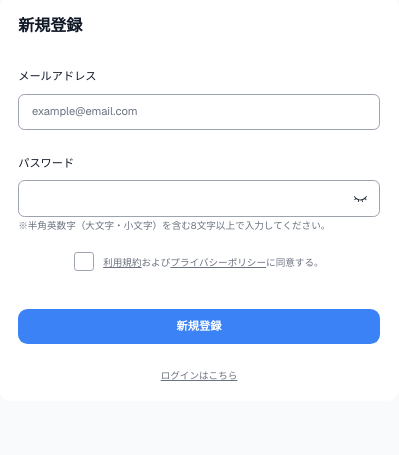
Scenario: SignUpForm › 正しい入力で送信してsupabaseからエラーが返ってきた場合、エラーメッセージを表示する
Type "test@example.com" into the field labelled "メールアドレス" at (199, 112), box [18,94,380,130]
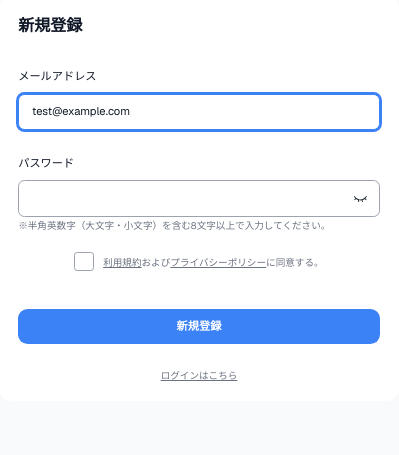
Type "Password1" into the password field labelled "パスワード" at (199, 198), box [18,180,380,217]
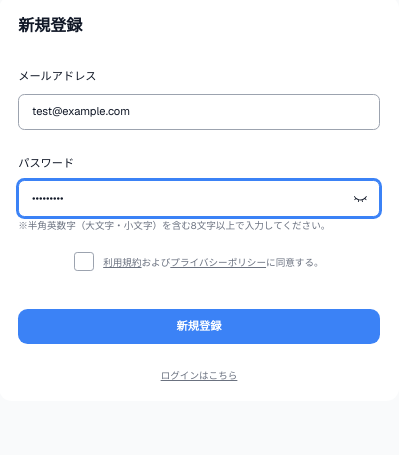
Click the checkbox at (84, 261), box [74,252,94,271]
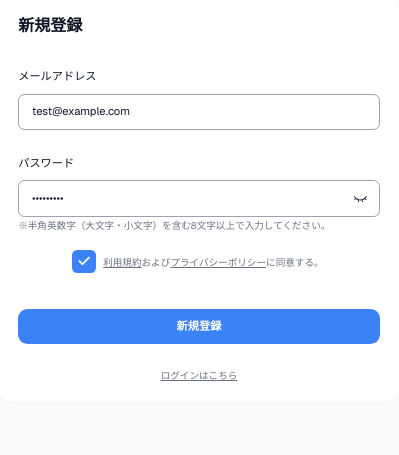
Click the button "新規登録" at (199, 327), box [18,309,380,344]
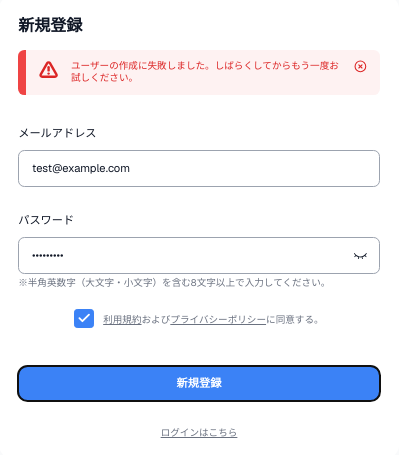
Expected: the text "ユーザーの作成に失敗しました。しばらくしてからもう一度お試しください。" is shown, [71,60,342,85]
